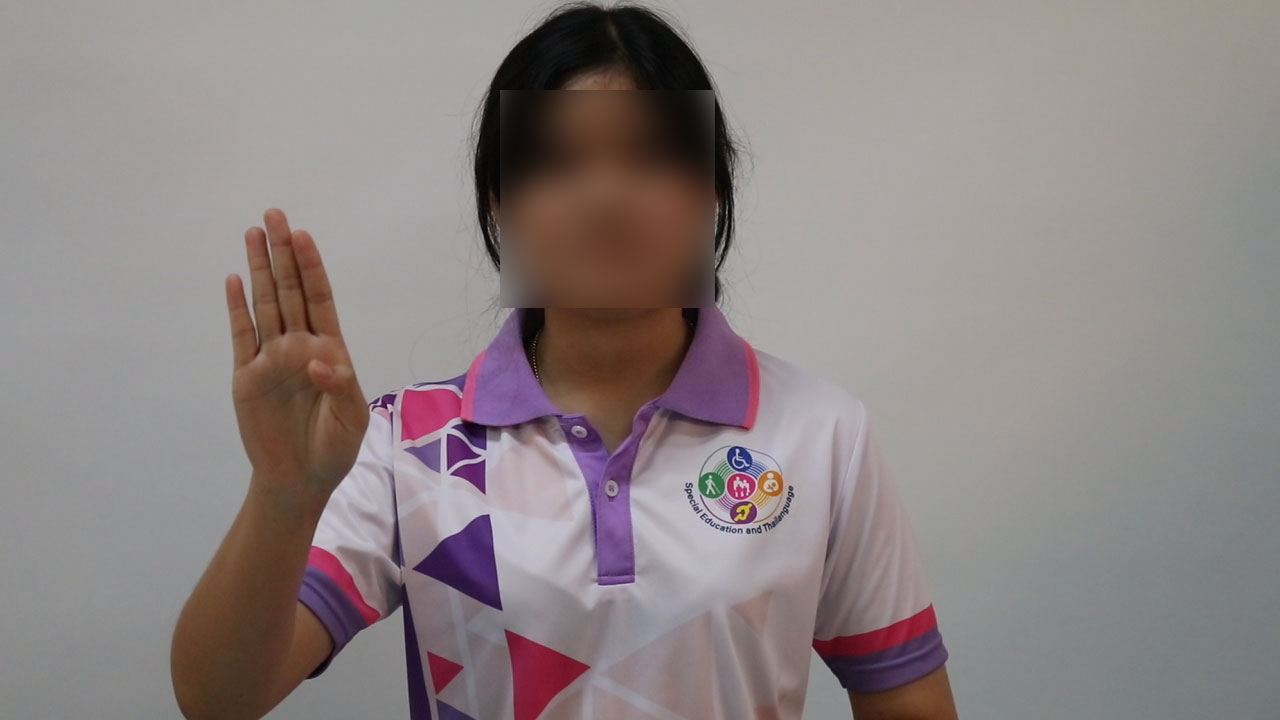bor: (197, 186, 391, 533)
